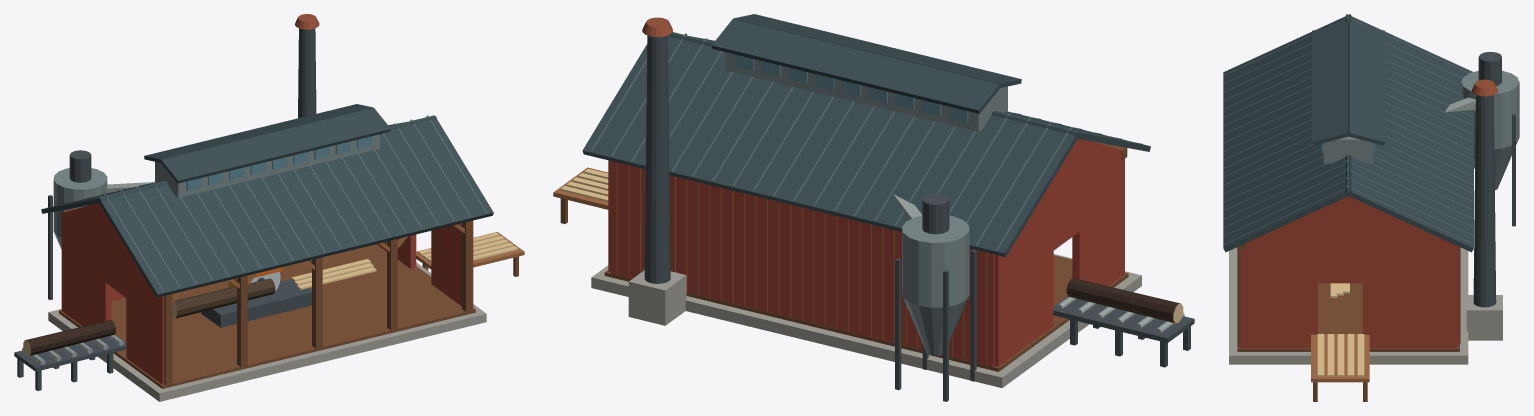
Rendered from sawmill.glb.
3 views of the same model, side by side, from view 1: azimuth 30°, elevation 25°; view 2: azimuth 150°, elevation 25°; view 3: azimuth 270°, elevation 25° (orthographic). The views are drawn at different scales.
Visible parts, largest first — view 1: sawmill; view 2: sawmill; view 3: sawmill.
Part boxes in pixels (x1,y1,x2,y2): sawmill: [14, 14, 524, 401]; sawmill: [553, 14, 1194, 401]; sawmill: [1223, 14, 1519, 401].
Size of the model in its own units: 21.7 by 9.89 by 10.66.
